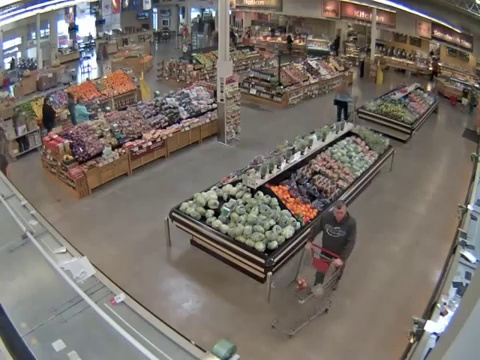face: (333, 207, 346, 219), (78, 97, 83, 104)
